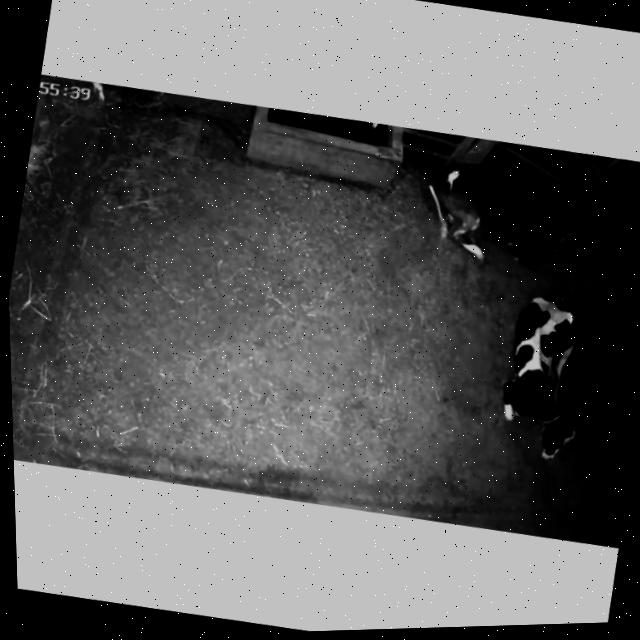lay: (403, 146, 623, 302), (475, 279, 613, 482)
